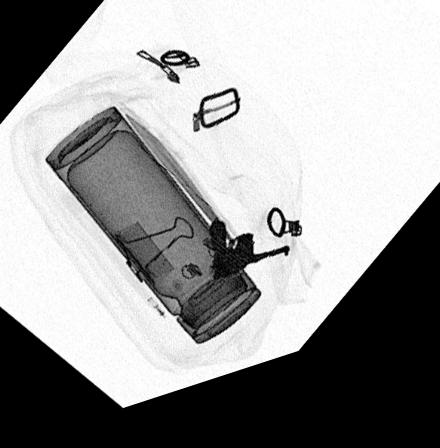Gun: (208, 233, 291, 295)
